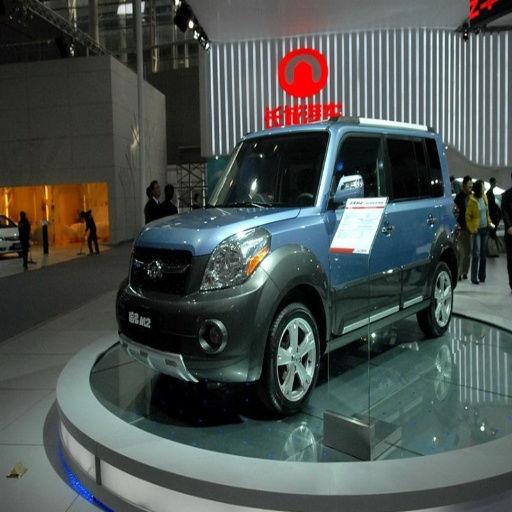front_bumper: (115, 246, 278, 388)
front_glass: (214, 133, 329, 207)
front_left_door: (325, 134, 402, 333)
trunk: (424, 198, 463, 264)
